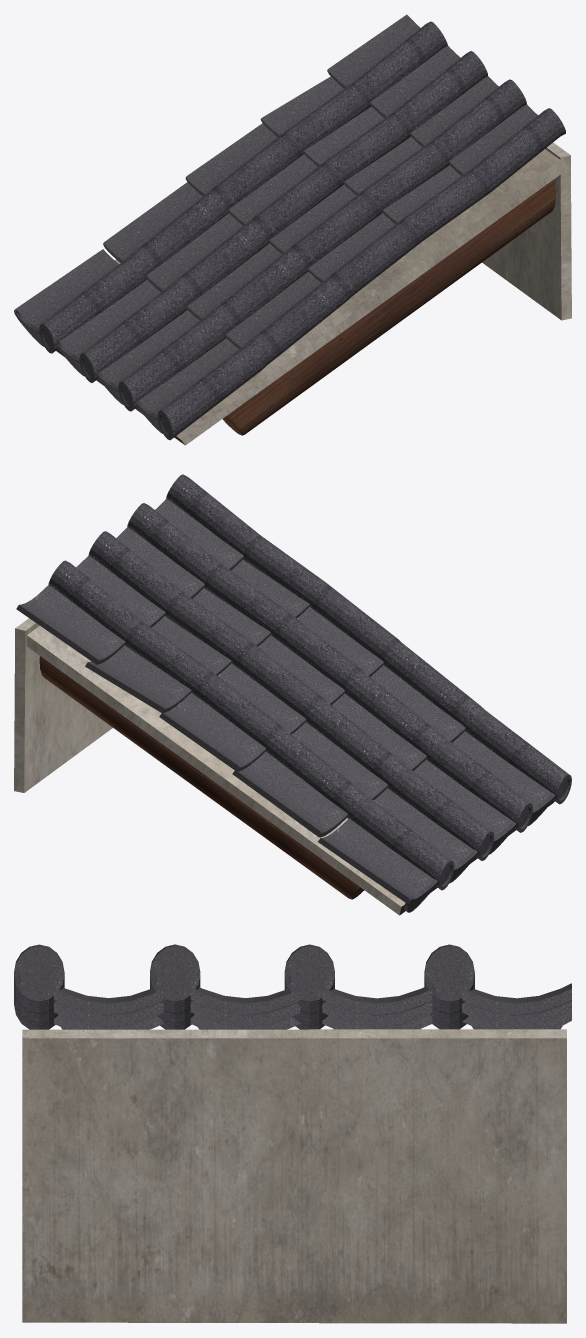
File: SM_Roof_56.fbx
3 views of the same model, one above another, from view 1: azimuth 30°, elevation 25°; view 2: azimuth 150°, elevation 25°; view 3: azimuth 270°, elevation 25° (orthographic). The views are drawn at different scales.
Visible parts, largest first — view 1: SM_Roof_56; view 2: SM_Roof_56; view 3: SM_Roof_56.
Part boxes in pixels (x1=…): SM_Roof_56: x1=14, y1=14, x2=571, y2=445; SM_Roof_56: x1=14, y1=474, x2=571, y2=915; SM_Roof_56: x1=14, y1=944, x2=571, y2=1323.
Bounding box in the file's own units: 281 × 194 × 170.
3 materials, 3 textured.
